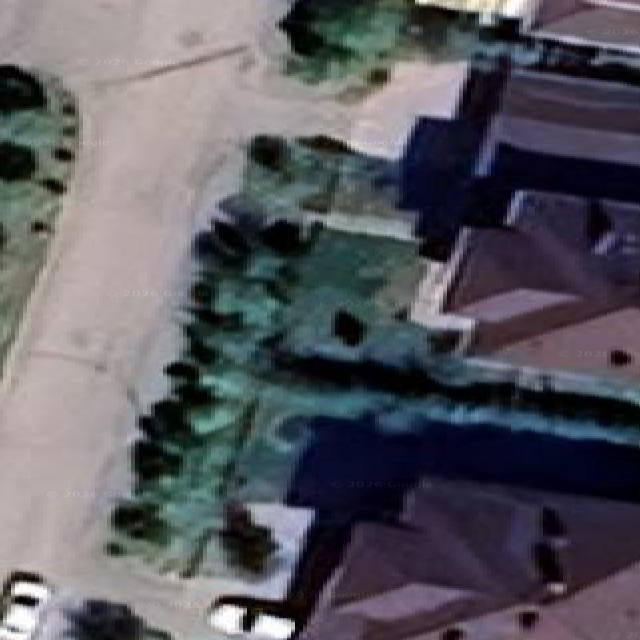car: (208, 595, 298, 639), (0, 572, 51, 639)
